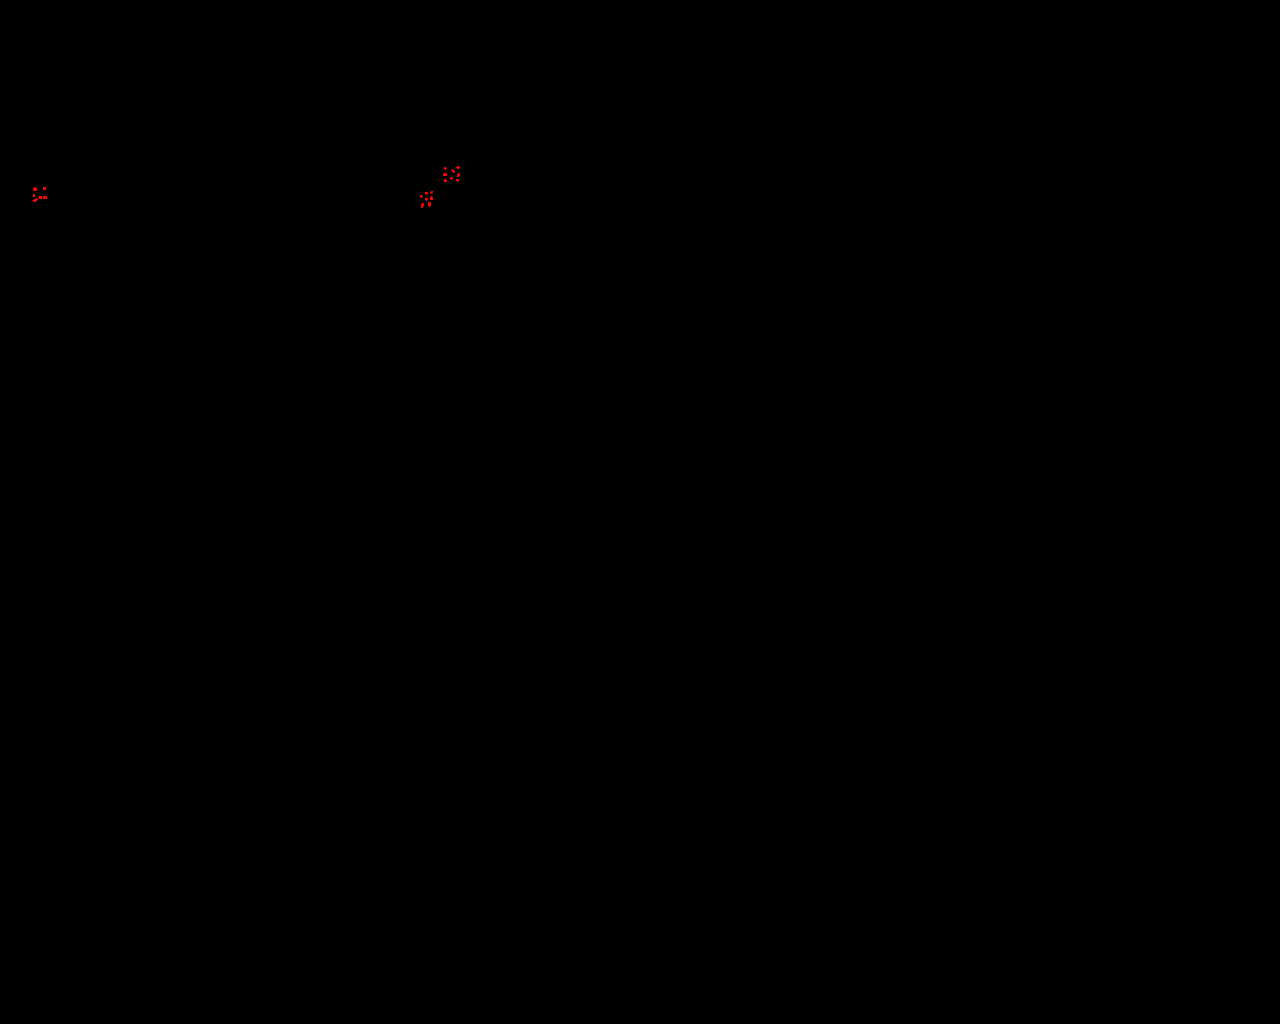Target: (33, 197, 38, 202), (421, 203, 424, 208), (456, 166, 460, 169), (451, 169, 455, 173), (33, 187, 37, 191), (428, 202, 430, 207), (444, 167, 447, 170), (457, 173, 460, 177), (450, 177, 453, 180), (444, 179, 447, 182), (456, 179, 459, 182), (43, 187, 46, 190), (425, 192, 428, 195), (425, 197, 428, 201), (443, 173, 447, 176), (43, 196, 47, 199), (430, 191, 433, 194), (420, 195, 423, 197), (39, 196, 42, 199), (430, 196, 433, 200), (33, 194, 34, 197)
